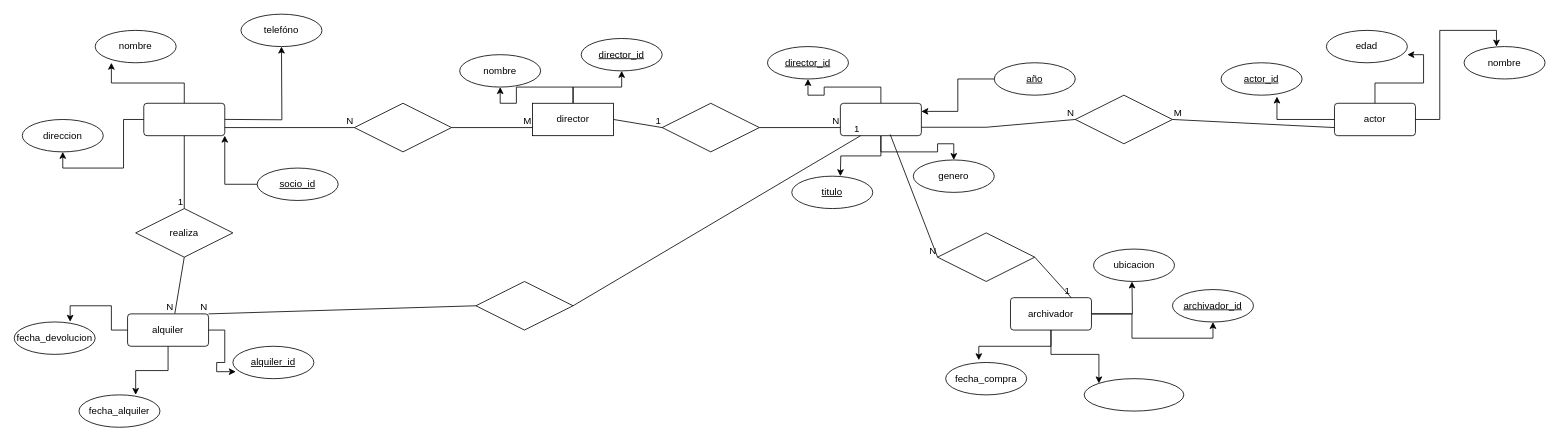
The diagram is 1559 pixels wide and 441 high, and some of its shapes have lost their labels. The centre of each missing label's shape, as x and y in pixels:
dirige: point 710,127
es alquilada: point 524,305
numero_estanterias: point 1133,394
pelicula: point 880,119
pertenece: point 986,256
prefiere: point 403,127
socio: point 184,119
tiene: point 1123,119
